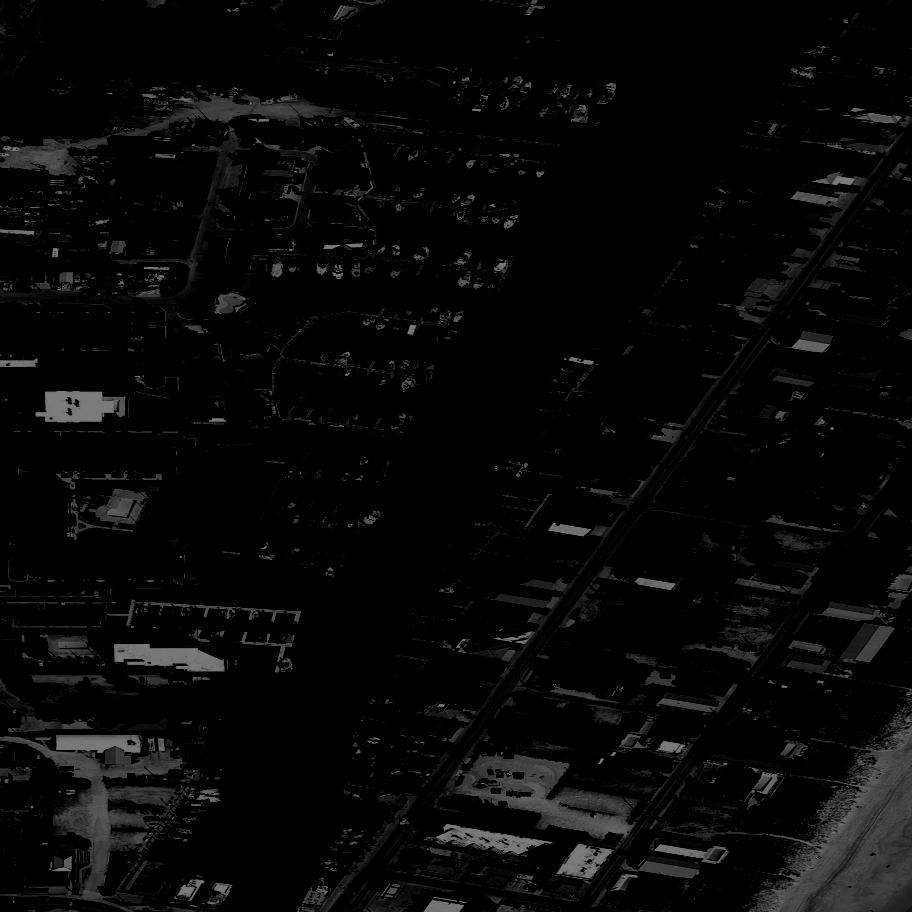ship: (597, 78, 623, 112), (358, 503, 386, 531), (500, 206, 525, 237), (130, 88, 166, 108), (77, 168, 104, 191), (260, 92, 300, 107), (438, 324, 461, 349), (453, 247, 476, 271), (409, 243, 434, 265), (174, 121, 200, 142), (471, 269, 491, 296), (388, 260, 410, 284), (165, 824, 198, 840), (511, 160, 535, 182), (485, 156, 507, 180), (341, 114, 366, 135), (360, 256, 381, 281), (545, 373, 577, 389), (419, 361, 436, 391), (398, 299, 419, 323), (455, 268, 476, 292), (390, 409, 409, 435), (328, 844, 359, 859), (506, 74, 526, 97), (179, 807, 214, 820), (186, 794, 223, 806), (555, 82, 576, 103), (434, 305, 454, 327), (138, 84, 182, 94), (346, 257, 364, 281), (162, 94, 195, 107), (267, 259, 286, 281), (317, 115, 343, 131), (386, 240, 404, 263), (572, 103, 589, 127), (790, 67, 817, 82), (320, 862, 345, 878), (395, 357, 415, 377), (330, 257, 346, 281), (463, 209, 479, 233), (458, 65, 474, 89), (432, 264, 450, 285), (405, 147, 423, 168), (407, 620, 433, 634), (450, 208, 469, 227), (373, 317, 391, 337), (389, 318, 407, 338), (464, 152, 480, 174), (335, 349, 353, 368), (410, 187, 429, 205), (460, 192, 478, 211), (388, 183, 405, 203), (523, 99, 540, 119), (584, 85, 599, 107), (548, 101, 565, 120), (342, 789, 365, 803), (533, 161, 548, 182), (533, 79, 548, 100), (537, 100, 551, 122), (701, 199, 723, 213), (475, 155, 492, 173), (435, 190, 452, 208), (510, 97, 528, 114), (399, 375, 415, 394), (24, 133, 43, 149), (497, 198, 513, 217), (494, 257, 510, 276), (282, 464, 297, 484), (425, 304, 440, 324), (143, 100, 173, 110), (167, 834, 194, 845), (302, 260, 316, 281), (327, 517, 344, 534), (470, 74, 486, 92), (520, 80, 536, 98), (89, 217, 115, 228), (314, 259, 329, 278), (478, 210, 493, 229), (372, 430, 397, 441), (188, 789, 222, 797), (362, 315, 378, 332), (353, 367, 368, 385), (496, 75, 510, 94), (325, 404, 338, 424), (715, 185, 735, 198), (290, 512, 305, 529), (74, 174, 89, 191), (499, 95, 512, 114), (203, 774, 230, 783), (358, 456, 373, 472), (136, 288, 160, 298), (486, 197, 501, 213), (525, 446, 545, 458), (260, 539, 274, 556), (451, 309, 465, 326), (340, 828, 374, 835), (405, 203, 419, 220), (461, 90, 475, 107), (571, 86, 585, 103), (547, 82, 560, 100), (301, 117, 320, 129), (312, 467, 326, 483), (290, 545, 304, 561), (375, 243, 389, 259), (338, 835, 369, 842), (352, 745, 364, 763), (285, 498, 299, 513), (316, 366, 331, 380), (410, 613, 431, 623), (490, 215, 504, 230), (451, 192, 464, 208), (378, 372, 390, 389), (335, 840, 364, 847), (169, 123, 191, 132), (801, 48, 829, 55), (341, 366, 354, 381), (217, 124, 229, 140), (79, 165, 98, 175), (184, 804, 211, 811), (25, 188, 46, 197), (801, 65, 828, 72), (687, 232, 708, 241), (452, 134, 473, 143), (60, 205, 83, 213), (206, 769, 229, 777), (280, 631, 293, 645), (481, 139, 511, 145), (505, 457, 523, 467), (280, 658, 291, 674), (693, 217, 712, 226), (591, 113, 601, 130), (487, 282, 499, 296), (286, 260, 297, 275), (489, 94, 500, 109), (482, 256, 493, 271), (65, 219, 83, 228), (355, 473, 367, 486), (471, 523, 497, 529), (452, 91, 464, 104), (347, 355, 359, 368), (176, 628, 188, 641), (340, 471, 351, 485), (350, 411, 361, 425), (88, 223, 110, 230), (564, 104, 575, 118), (426, 151, 437, 165), (595, 362, 612, 371), (425, 601, 442, 610), (74, 285, 91, 294), (446, 577, 464, 585), (337, 769, 350, 780), (561, 368, 581, 375), (498, 153, 521, 159), (449, 546, 472, 552), (437, 588, 456, 595), (1, 282, 13, 293), (505, 161, 516, 173), (156, 271, 167, 283), (320, 516, 331, 528), (469, 149, 495, 154), (325, 565, 335, 578), (259, 555, 275, 563), (106, 290, 127, 296), (20, 205, 45, 210), (81, 159, 98, 166), (388, 358, 397, 371), (486, 78, 495, 91), (496, 466, 515, 472), (111, 222, 125, 230), (148, 274, 158, 285), (99, 279, 109, 290), (236, 89, 246, 100), (346, 520, 358, 529), (230, 87, 239, 99), (81, 156, 99, 162), (188, 629, 197, 640), (169, 276, 181, 284), (82, 291, 98, 297), (113, 209, 129, 215), (427, 133, 446, 138), (191, 677, 210, 682), (141, 605, 151, 614), (299, 563, 309, 572), (49, 199, 66, 204), (447, 146, 464, 151), (170, 771, 187, 776), (117, 280, 126, 289), (136, 275, 145, 284), (16, 284, 25, 293), (332, 551, 341, 560), (829, 18, 849, 22), (26, 212, 41, 217), (101, 171, 116, 176), (317, 862, 342, 865), (185, 608, 193, 617), (259, 633, 267, 642), (10, 283, 18, 292), (875, 251, 893, 255), (107, 280, 115, 289), (202, 728, 220, 732), (143, 273, 150, 283), (420, 207, 430, 214), (182, 817, 199, 821), (326, 352, 334, 360), (218, 610, 226, 618), (251, 611, 259, 619), (30, 284, 39, 291), (129, 276, 136, 285), (167, 281, 179, 286), (448, 89, 460, 94), (71, 200, 85, 204), (230, 610, 237, 618), (223, 88, 229, 97), (55, 192, 72, 195), (328, 425, 345, 428), (155, 108, 172, 111), (310, 564, 317, 571), (299, 470, 307, 476), (396, 204, 402, 212), (265, 517, 273, 523), (26, 223, 38, 227), (8, 198, 24, 201), (42, 220, 57, 223), (360, 527, 366, 534), (212, 632, 219, 638), (93, 280, 99, 286), (506, 492, 522, 494)
small-vehicle: (810, 299, 827, 310), (747, 714, 762, 726), (765, 722, 783, 732), (425, 758, 437, 771), (530, 864, 543, 875), (762, 435, 776, 445), (93, 340, 110, 348), (150, 902, 165, 911), (896, 71, 910, 80), (451, 793, 462, 804), (420, 769, 432, 779), (528, 885, 540, 895), (401, 815, 411, 827), (717, 413, 730, 422), (385, 56, 399, 64), (816, 430, 830, 438), (94, 322, 108, 330), (510, 822, 526, 829), (825, 618, 836, 628), (750, 645, 760, 656), (709, 777, 719, 788), (503, 751, 514, 761), (682, 433, 692, 444), (505, 770, 515, 781), (320, 47, 332, 56), (687, 779, 699, 788), (742, 707, 755, 715), (844, 239, 857, 247), (350, 52, 360, 62), (815, 636, 825, 646), (419, 773, 429, 783), (723, 765, 733, 775), (823, 637, 832, 648), (228, 186, 239, 195), (412, 776, 423, 785), (513, 771, 524, 780), (172, 747, 186, 754), (60, 766, 74, 773), (725, 554, 737, 562), (191, 143, 207, 149), (746, 434, 759, 441), (2, 855, 15, 862), (811, 615, 820, 625), (818, 618, 828, 627), (169, 680, 184, 686), (563, 753, 572, 763), (496, 770, 506, 779), (2, 776, 11, 786), (334, 49, 345, 57), (429, 757, 440, 765), (469, 794, 477, 805), (491, 788, 502, 796), (170, 676, 184, 682), (708, 424, 722, 430), (131, 336, 145, 342), (406, 750, 420, 756), (61, 283, 70, 292), (706, 783, 714, 793), (884, 367, 894, 375), (499, 749, 507, 759), (16, 394, 26, 402), (524, 884, 532, 894), (756, 302, 769, 308), (94, 360, 107, 366), (829, 560, 836, 571), (790, 469, 801, 476), (696, 445, 707, 452), (413, 894, 424, 901), (613, 493, 628, 498), (413, 741, 428, 746), (342, 51, 351, 59), (838, 621, 847, 629), (510, 744, 518, 753), (154, 431, 163, 439), (111, 255, 123, 261), (723, 560, 737, 565), (461, 794, 468, 804), (713, 420, 727, 425), (145, 817, 158, 822), (133, 330, 146, 335), (391, 772, 404, 777), (55, 283, 63, 291), (349, 904, 357, 912), (127, 807, 135, 815), (86, 604, 94, 612), (94, 588, 101, 597), (36, 661, 45, 668), (689, 455, 701, 460), (74, 718, 86, 723), (128, 773, 135, 781), (32, 773, 40, 780), (74, 275, 81, 283), (770, 281, 784, 285), (225, 63, 232, 71), (0, 745, 8, 752), (100, 661, 108, 668), (367, 55, 378, 60), (506, 791, 517, 796), (409, 746, 420, 751), (222, 213, 233, 218), (503, 743, 509, 752), (834, 618, 840, 627), (662, 673, 671, 679), (690, 894, 700, 899), (420, 765, 430, 770), (360, 72, 367, 79), (228, 8, 240, 12), (731, 546, 739, 552), (831, 637, 837, 645), (580, 718, 586, 726), (486, 798, 492, 806), (68, 589, 74, 597), (85, 678, 91, 686), (693, 782, 702, 787), (154, 807, 159, 816), (876, 130, 891, 133), (316, 197, 331, 200), (78, 661, 87, 666), (687, 459, 698, 463), (307, 65, 313, 72), (329, 69, 336, 75), (733, 644, 740, 650), (576, 487, 590, 490), (708, 639, 715, 645), (474, 796, 481, 802), (786, 474, 800, 477), (520, 747, 526, 754), (390, 76, 397, 82), (425, 848, 432, 854), (489, 782, 499, 786), (884, 157, 892, 162), (219, 66, 227, 71), (256, 144, 264, 149), (595, 812, 600, 820), (691, 883, 704, 886), (489, 750, 495, 756), (625, 647, 634, 651), (132, 365, 144, 368), (609, 833, 615, 839), (488, 770, 494, 776), (660, 464, 667, 469), (73, 589, 78, 596), (519, 793, 530, 796), (849, 240, 860, 243), (744, 551, 752, 555), (451, 852, 455, 860), (324, 67, 330, 72), (720, 394, 726, 399), (4, 395, 9, 401), (707, 487, 721, 489), (732, 306, 736, 313), (39, 898, 53, 900), (785, 477, 798, 479), (510, 827, 523, 829), (368, 74, 373, 79), (744, 646, 749, 651), (482, 750, 487, 755), (603, 721, 608, 726), (82, 590, 87, 595), (718, 642, 724, 646), (499, 802, 507, 805), (780, 331, 792, 333), (123, 129, 135, 131), (141, 808, 147, 812), (423, 829, 435, 831), (427, 797, 433, 801), (171, 683, 183, 685), (786, 706, 797, 708), (775, 718, 785, 720), (383, 76, 388, 80), (60, 603, 65, 607), (94, 661, 98, 666), (142, 679, 146, 684), (14, 710, 17, 715), (132, 362, 146, 363), (87, 661, 89, 664)
